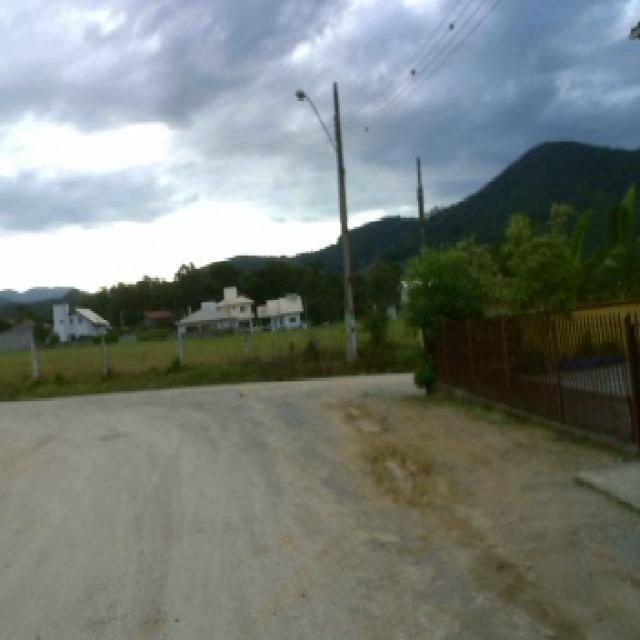Poth-hole: (329, 396, 438, 506)
